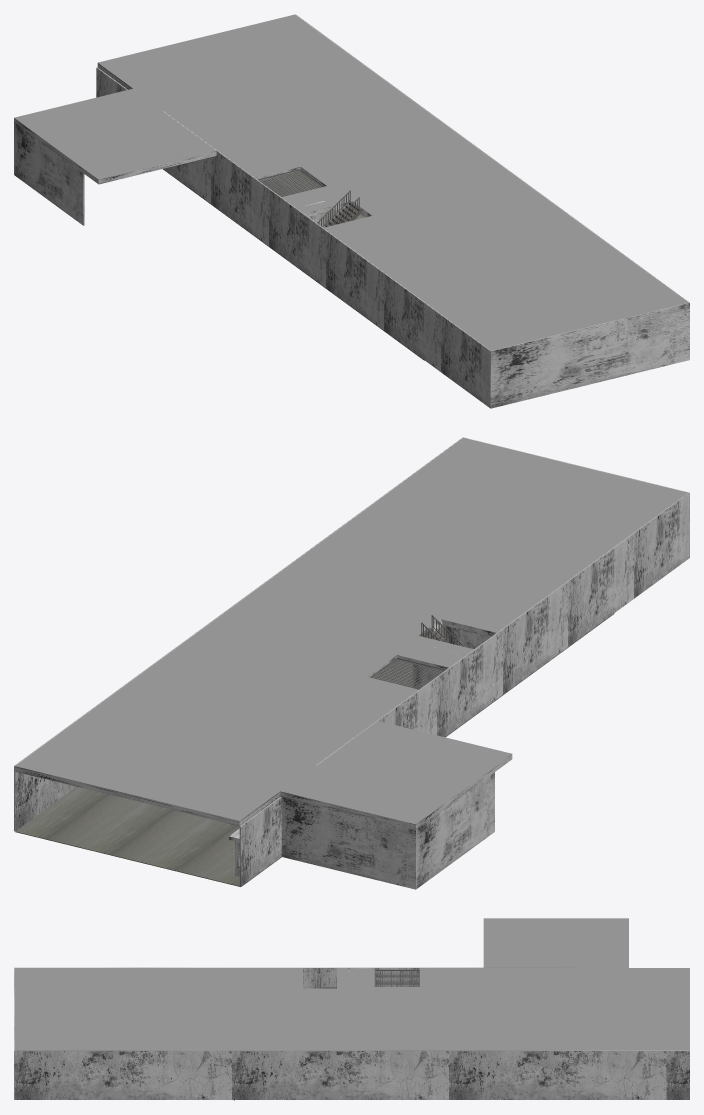
Rendered from lantai 1.FBX.
The picture shows the model from 3 angles, top to bottom: view 1: azimuth 30°, elevation 25°; view 2: azimuth 150°, elevation 25°; view 3: azimuth 270°, elevation 25°; orthographic projection. The views are drawn at different scales.
Visible parts, largest first — view 1: Box300, Box019, Box1909, Box296, Box2771, Box001; view 2: Box300, Box019, Box296, Box001, Box2770, Box2771, Box1907, Box299, Box105; view 3: Box300, Box105, Box296, Box299, Box1908, Box019.
Part boxes in pixels (bbox=[...]): Box300: bbox=[97, 14, 687, 350]; Box019: bbox=[163, 111, 490, 407]; Box1909: bbox=[490, 302, 689, 408]; Box296: bbox=[14, 88, 216, 184]; Box2771: bbox=[14, 123, 84, 225]; Box001: bbox=[163, 169, 424, 360]; Box300: bbox=[15, 438, 687, 826]; Box019: bbox=[316, 493, 689, 765]; Box296: bbox=[280, 721, 512, 829]; Box001: bbox=[15, 613, 614, 886]; Box2770: bbox=[281, 797, 416, 889]; Box2771: bbox=[416, 772, 494, 888]; Box1907: bbox=[239, 797, 281, 886]; Box299: bbox=[14, 735, 56, 831]; Box105: bbox=[90, 438, 462, 710]; Box300: bbox=[15, 968, 689, 1050]; Box105: bbox=[15, 1050, 575, 1099]; Box296: bbox=[483, 918, 628, 967]; Box299: bbox=[627, 1050, 689, 1099]; Box1908: bbox=[575, 1050, 627, 1099]; Box019: bbox=[15, 967, 575, 988].
Size of the model in its own units: 1096 by 233 by 2357.
